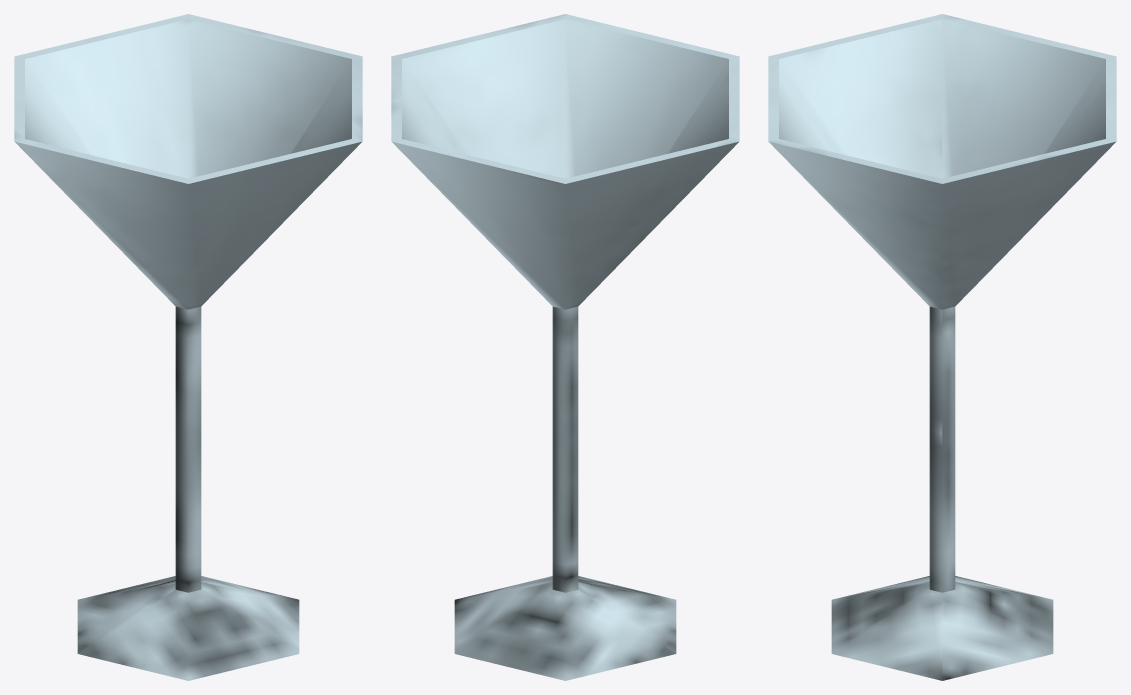
Rendered from EmptyGlassV6.fbx.
3 renders of one model, left to right at view 1: azimuth 30°, elevation 25°; view 2: azimuth 150°, elevation 25°; view 3: azimuth 270°, elevation 25°, orthographic.
Visible parts, largest first — view 1: Glasses.010; view 2: Glasses.010; view 3: Glasses.010.
Part boxes in pixels (x1=…): Glasses.010: x1=14, y1=14, x2=362, y2=680; Glasses.010: x1=391, y1=14, x2=739, y2=680; Glasses.010: x1=768, y1=14, x2=1116, y2=680.
Size of the model in its own units: 0.1832 by 0.2652 by 0.1587.
